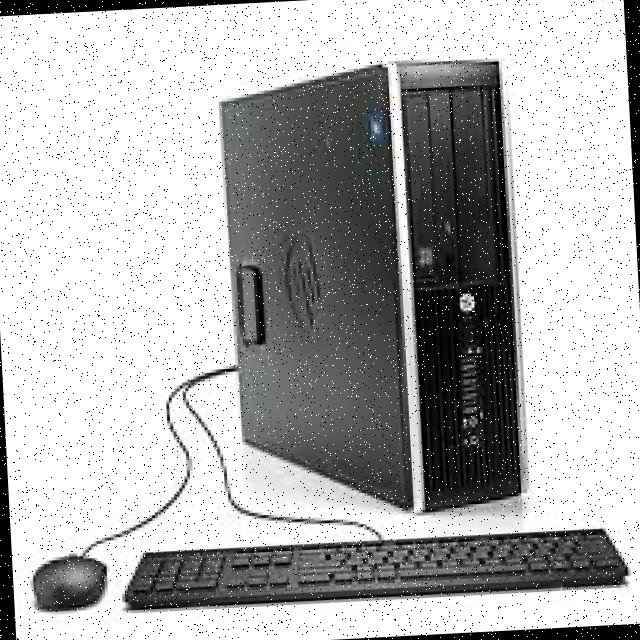Computer: (186, 36, 544, 528)
